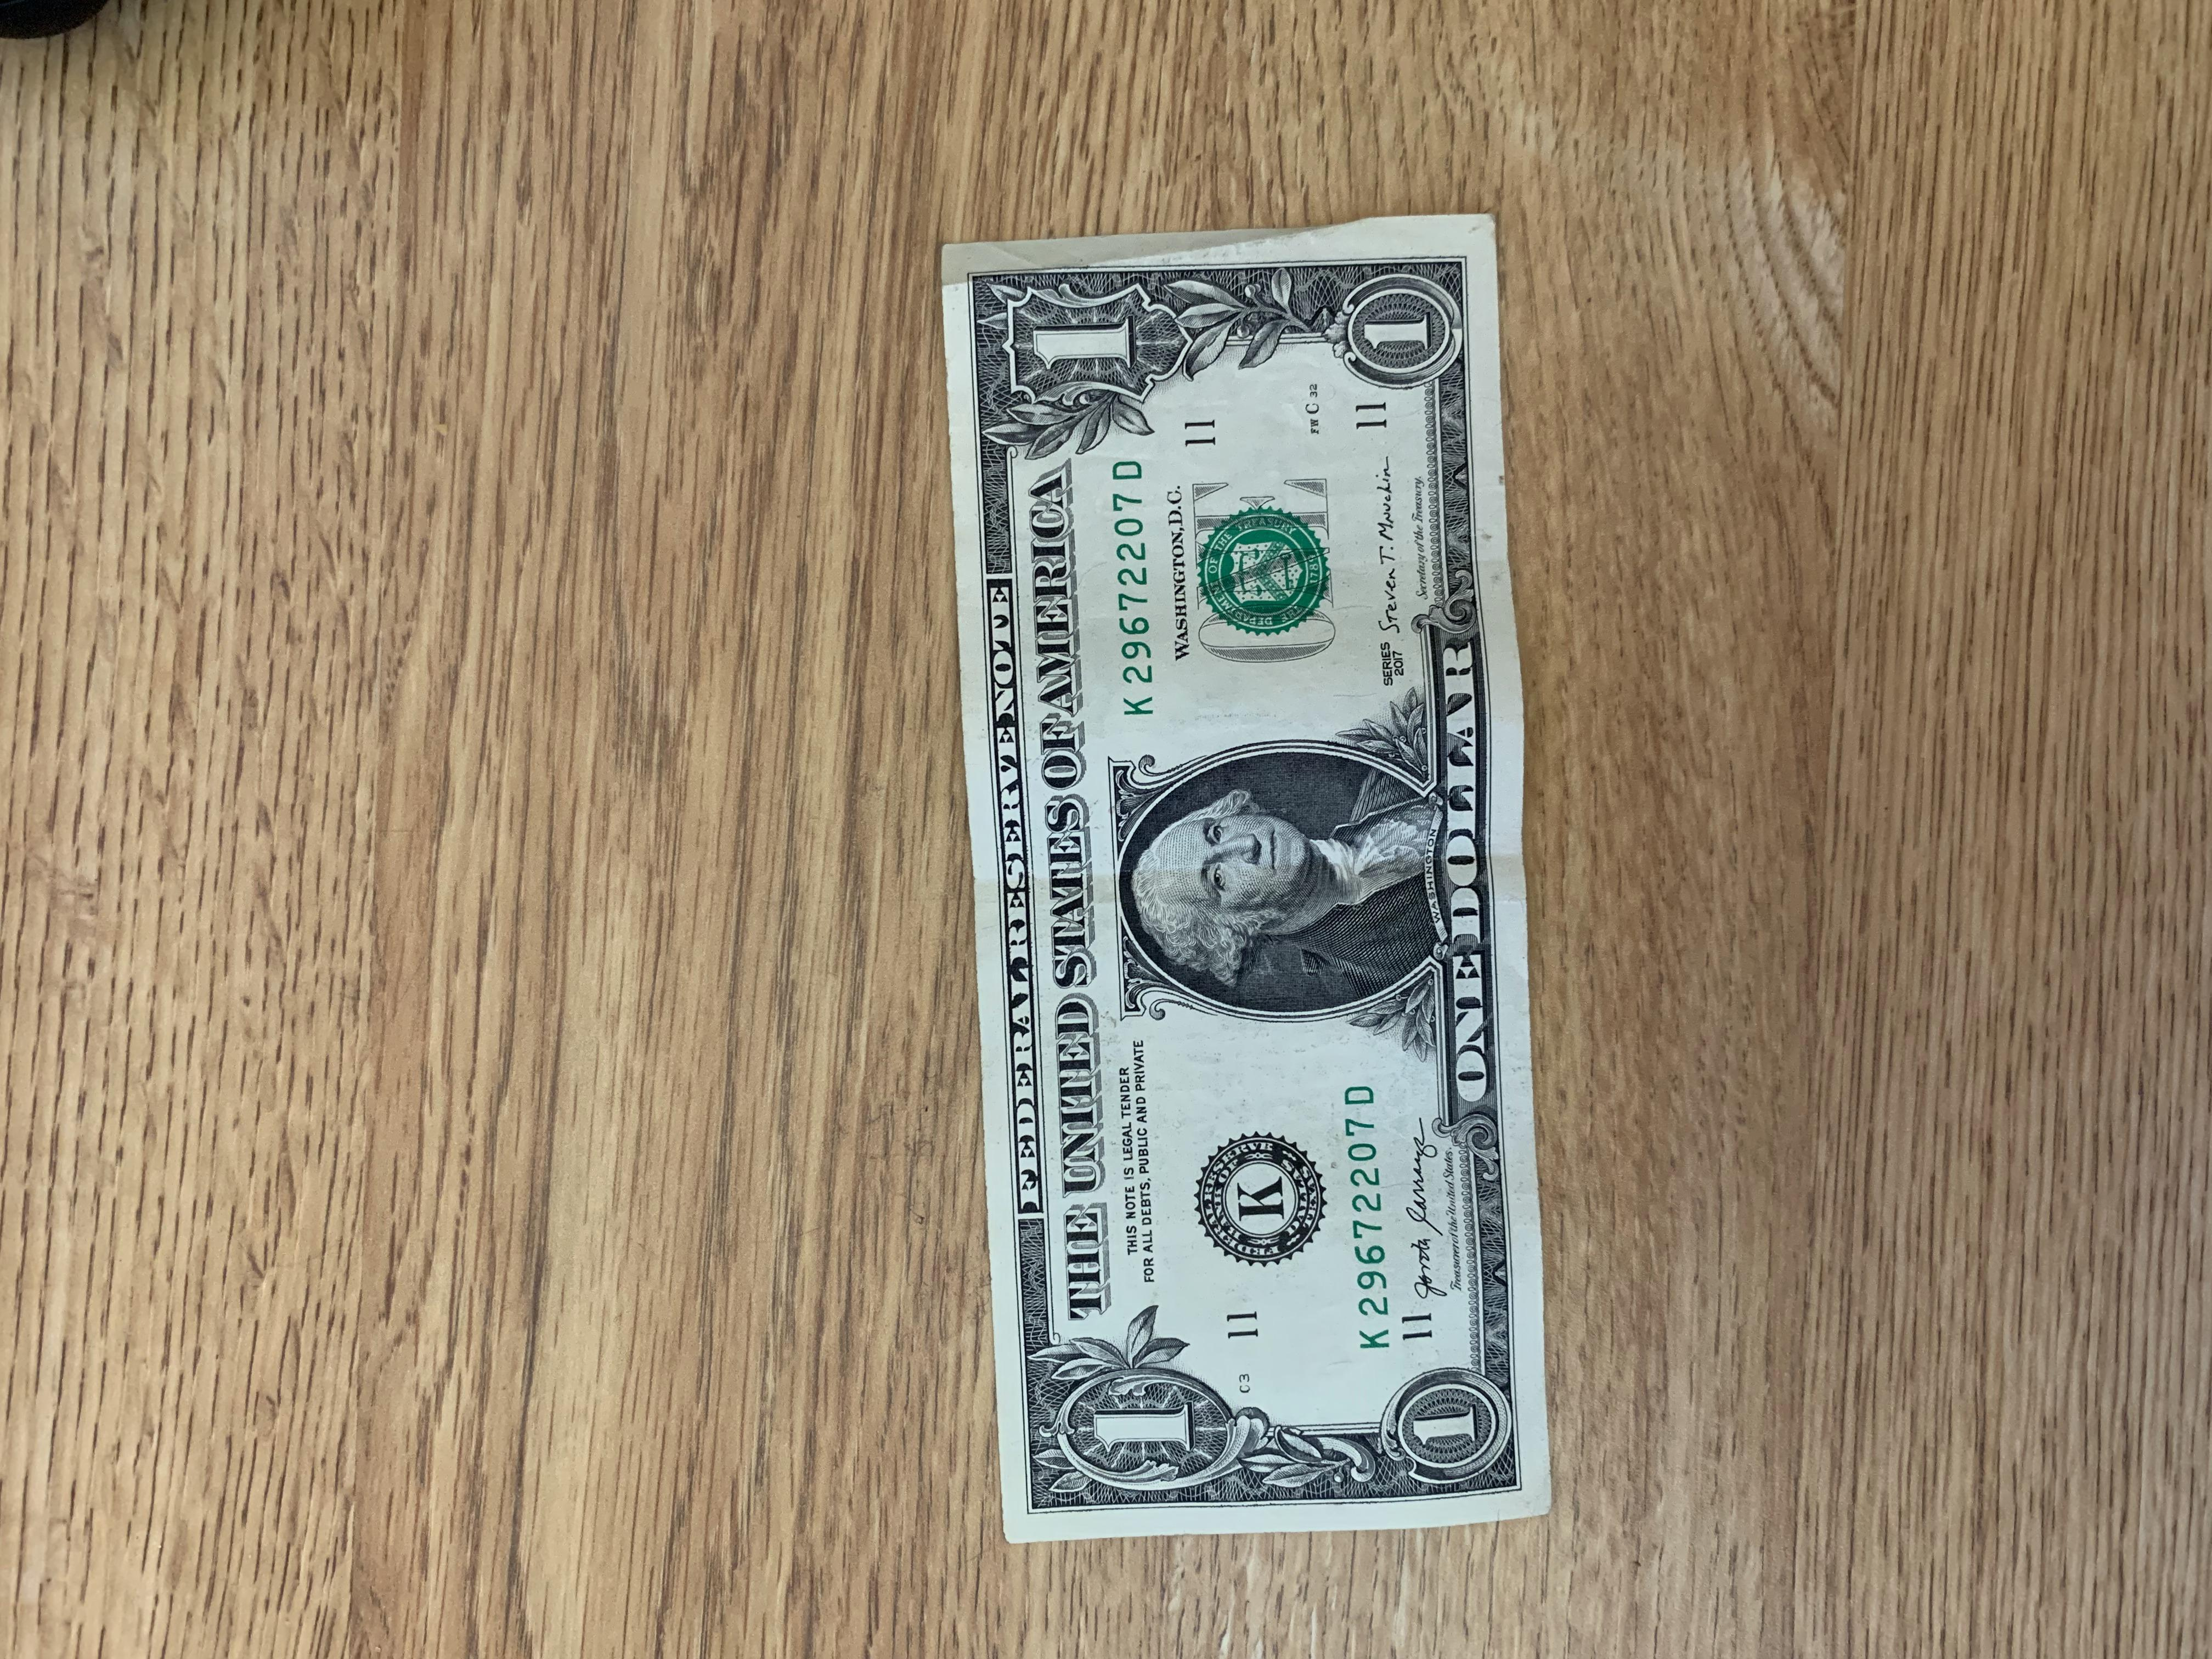OneBill: (934, 202, 1561, 1553)
